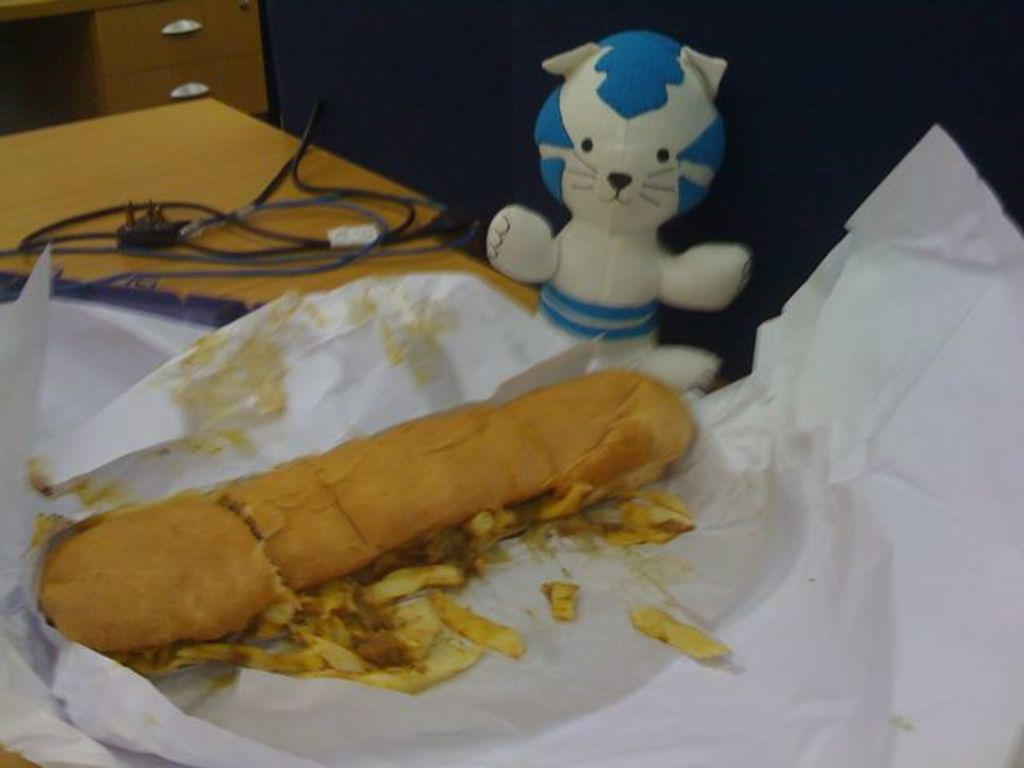hot_dog: (0, 261, 709, 686)
